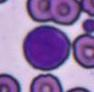L: (22, 25, 70, 71)
